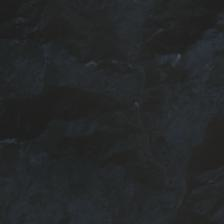landslides: (85, 61, 130, 72), (145, 29, 162, 45), (170, 54, 182, 69)
